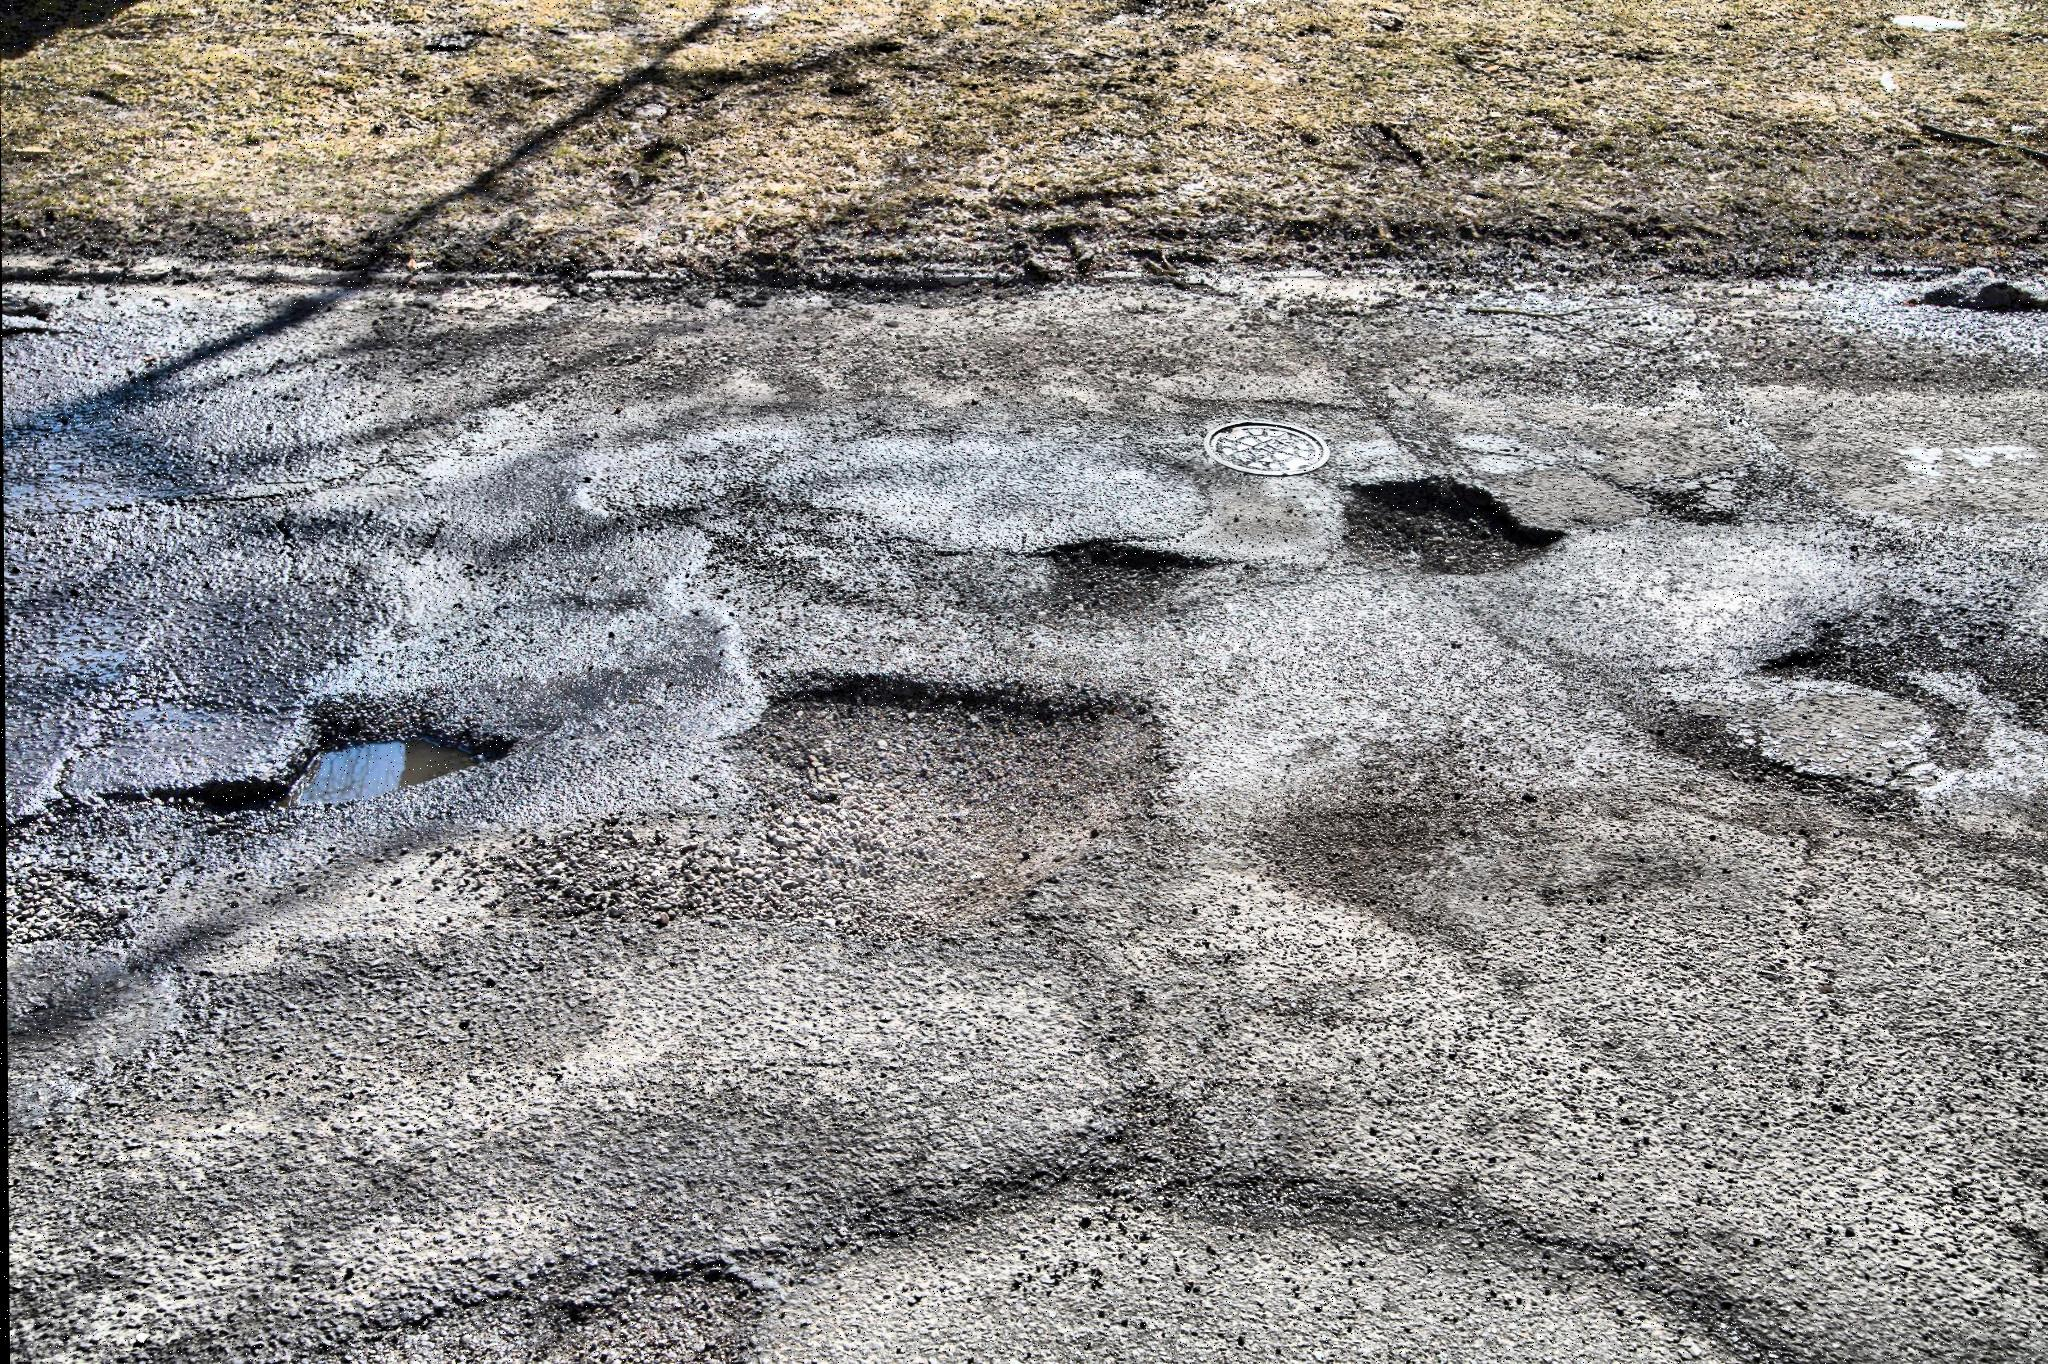pothole: (717, 667, 1159, 836), (1636, 636, 1995, 813), (259, 693, 525, 834), (1324, 455, 1566, 595), (1036, 524, 1190, 635)
